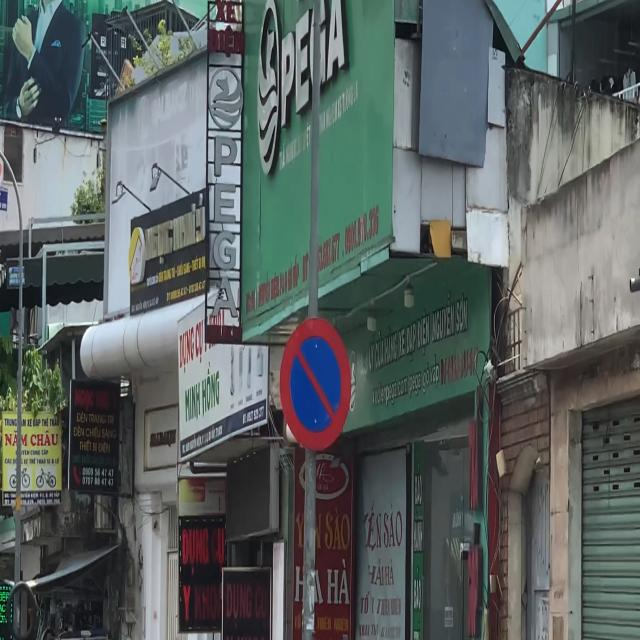Cam do: (282, 315, 352, 452)
